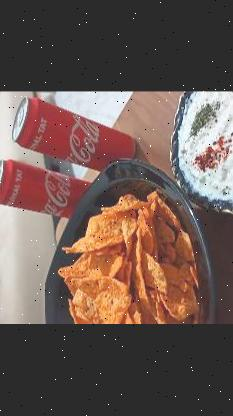Can: (10, 96, 135, 174), (0, 159, 89, 220)
